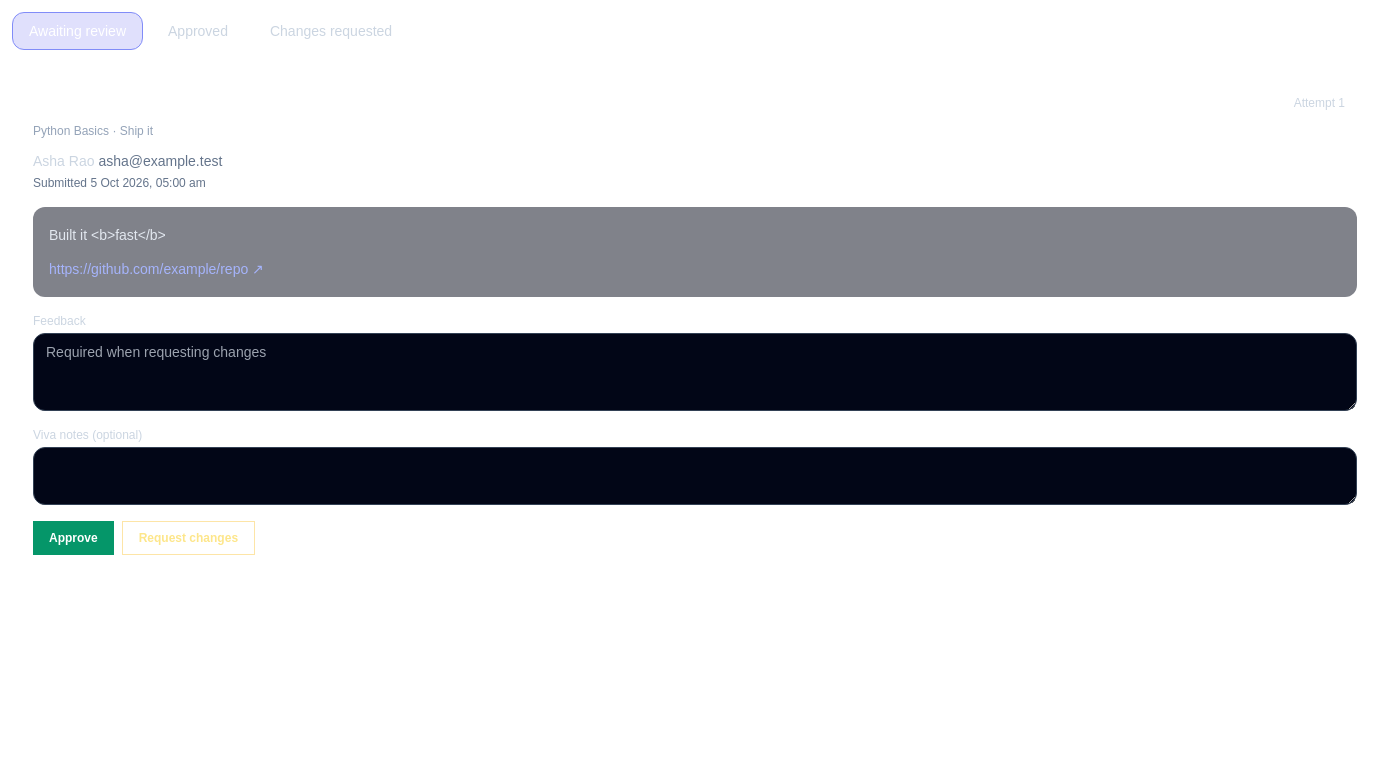
ProjectReviewQueue › requests changes with feedback
Type "Add tests" into the text box named "feedback for asha rao" at point(695, 372), box [33,333,1357,411]
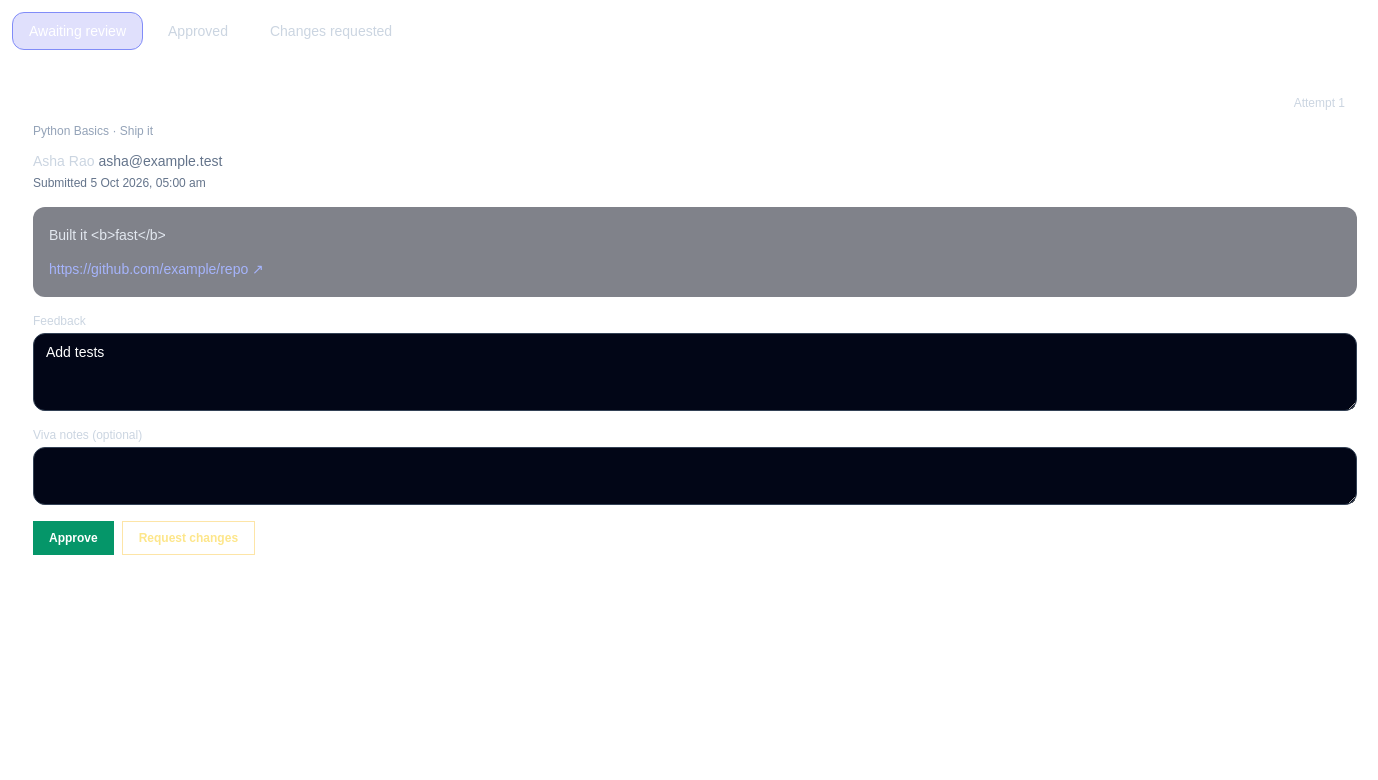
Click the button "Request changes" at point(188, 538), box [122,521,255,555]
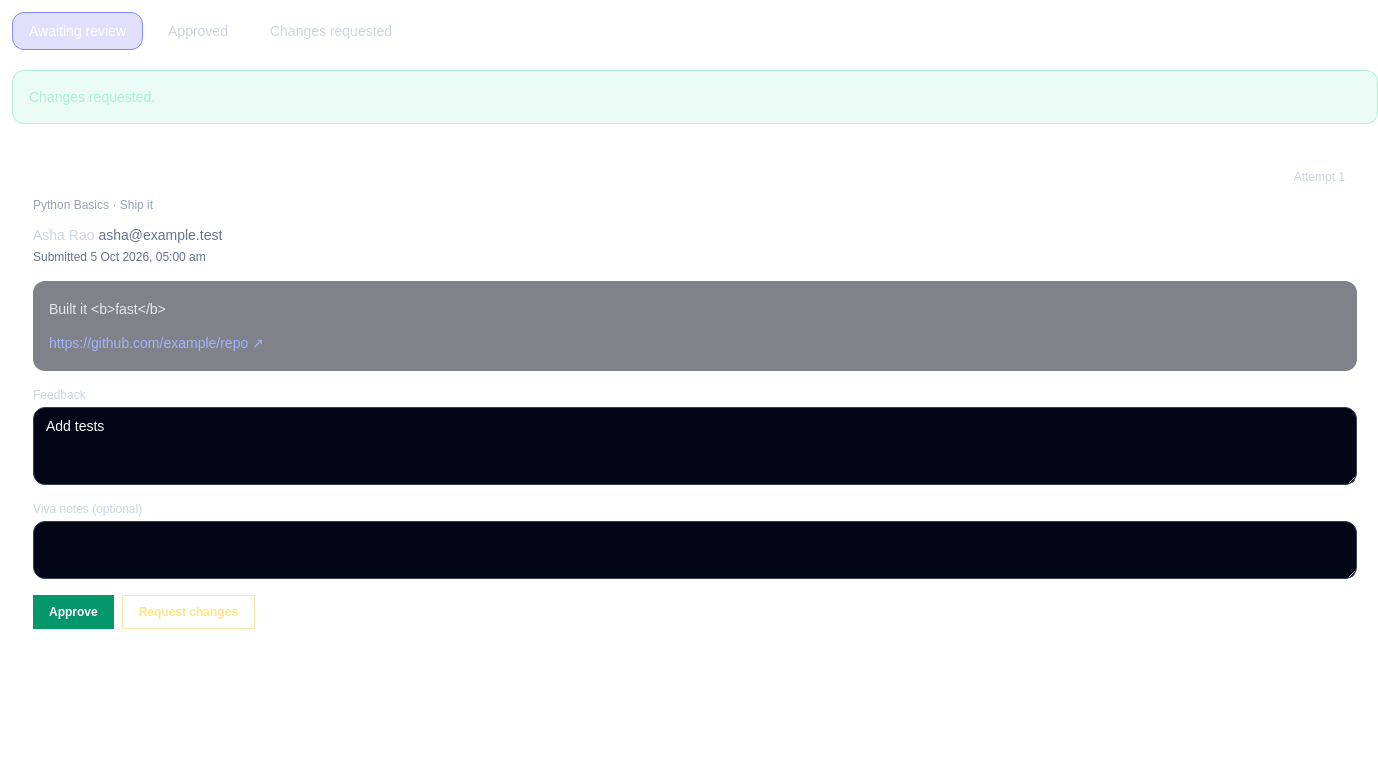
Expected: the text "Changes requested." is shown, [12,70,1377,124]
